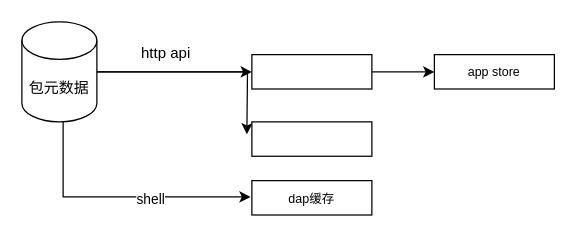
This 576x238 diagram has some shape labels left out. Each missing label, with the box of its shape:
服务图谱: (251, 121, 372, 156)
本地服务: (251, 53, 372, 89)
